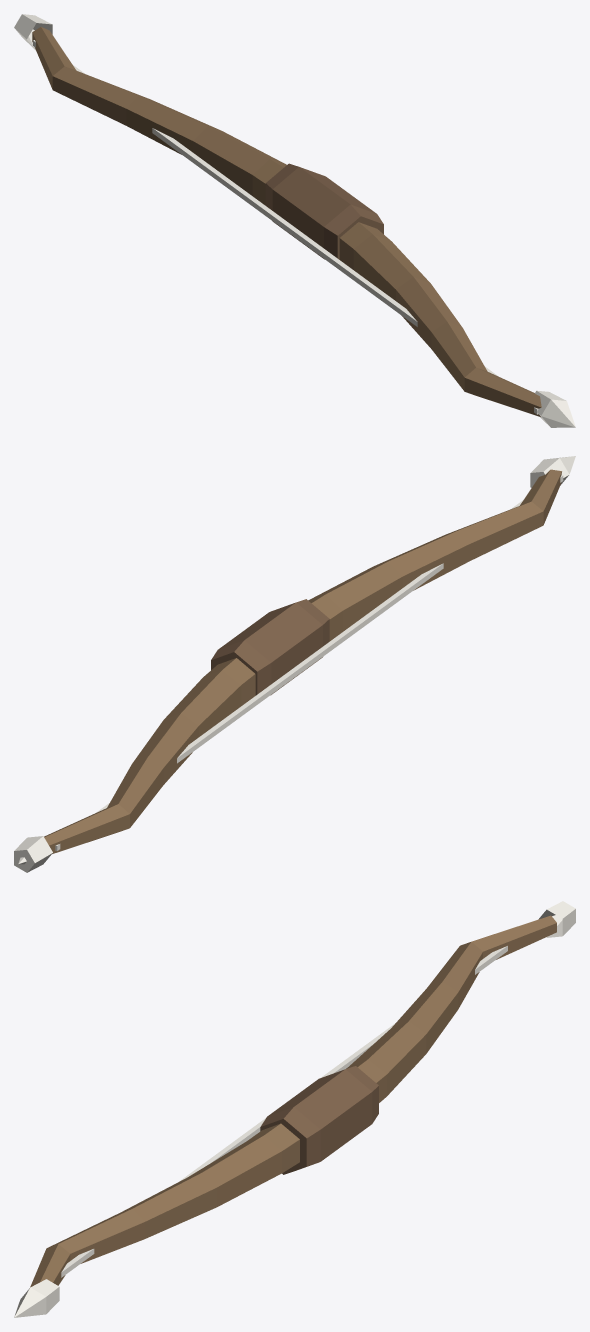
Rendered from recurve.glb.
3 renders of one model, top to bottom at view 1: azimuth 30°, elevation 25°; view 2: azimuth 150°, elevation 25°; view 3: azimuth 330°, elevation 25°, orthographic.
Parts seen in each view (by area): view 1: recurve; view 2: recurve; view 3: recurve.
Part boxes in pixels (left/top/right/bottom): recurve: left=14, top=14, right=575, bottom=427; recurve: left=14, top=456, right=575, bottom=872; recurve: left=14, top=901, right=575, bottom=1317.
Bounding box in the file's own units: 0.1042 × 0.069 × 1.08.
